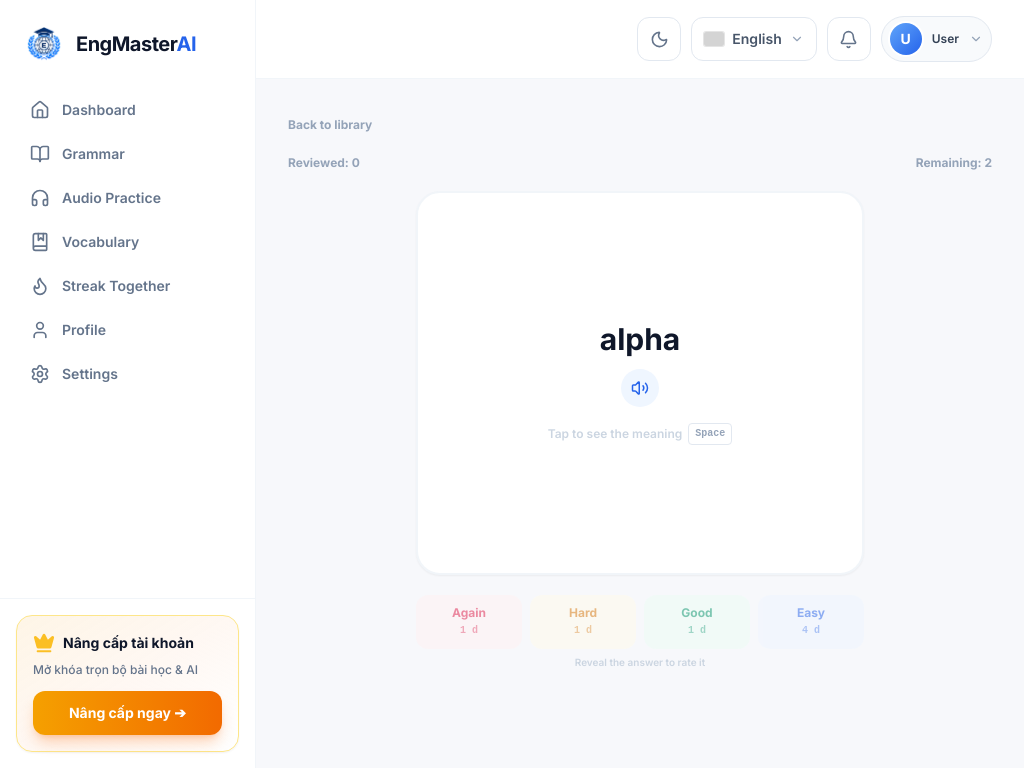
Test: ReviewSessionPage › rating a word submits a real review with practiceMode REVIEW and advances to the next word
Expected: the text "alpha" is shown, [600,321,680,357]
Type keys " "
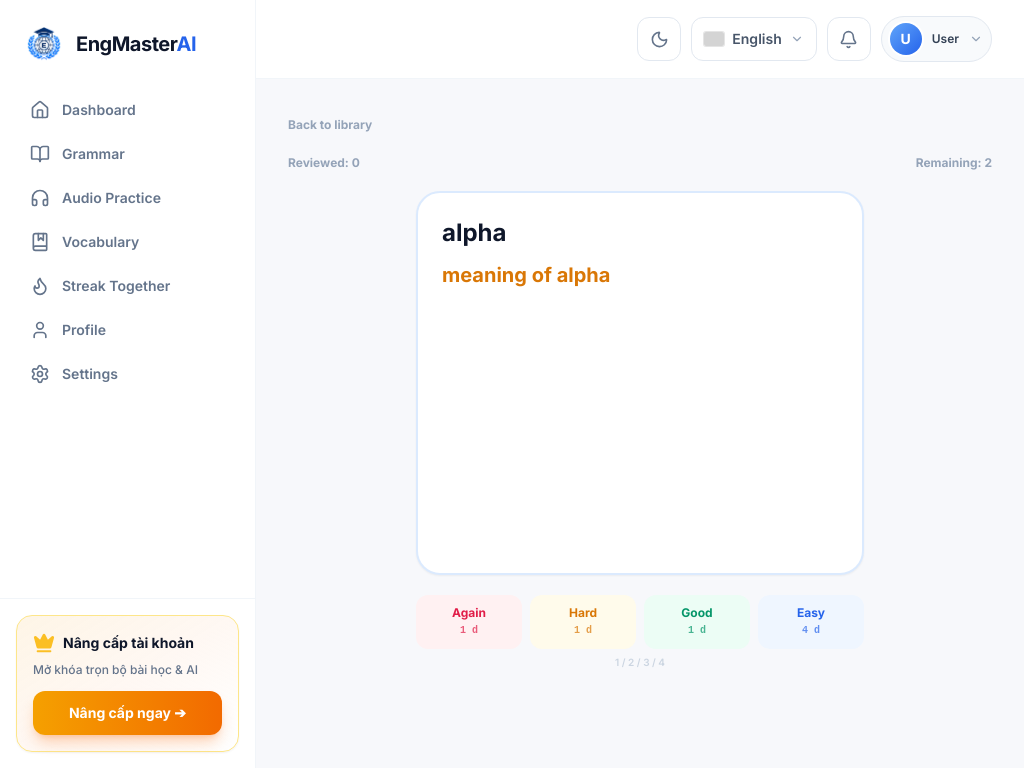
Click the button "Good 1 d". click: (697, 622)
box: [644,595,750,649]
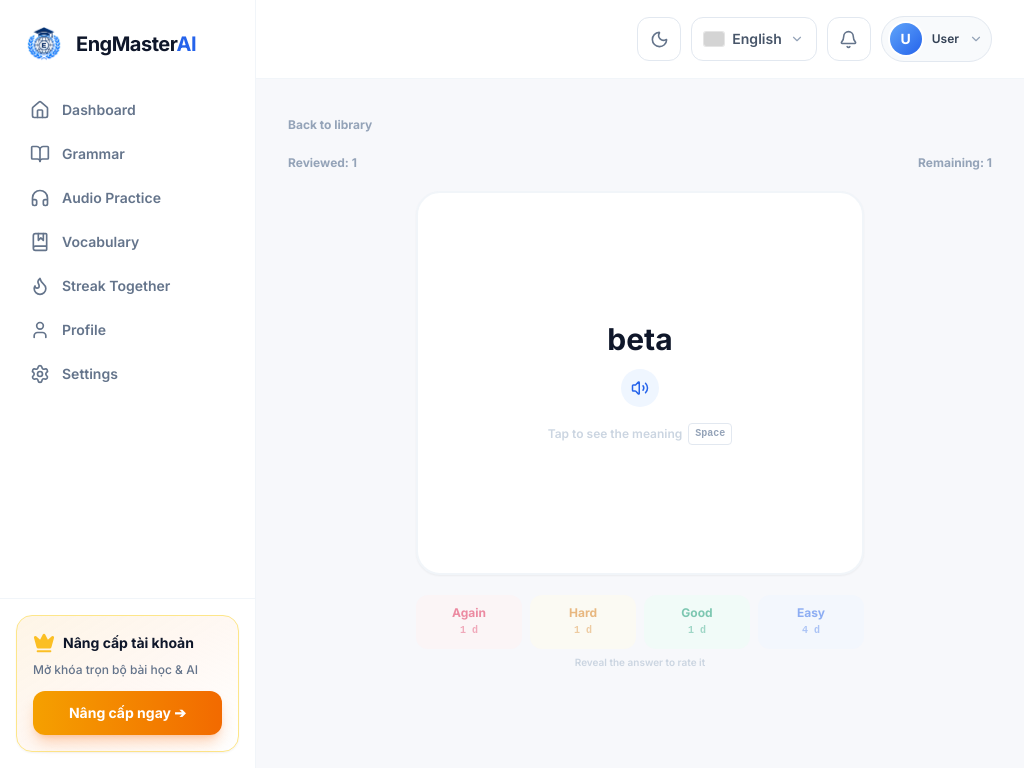
Expected: the text "beta" is shown, [607,321,673,357]
